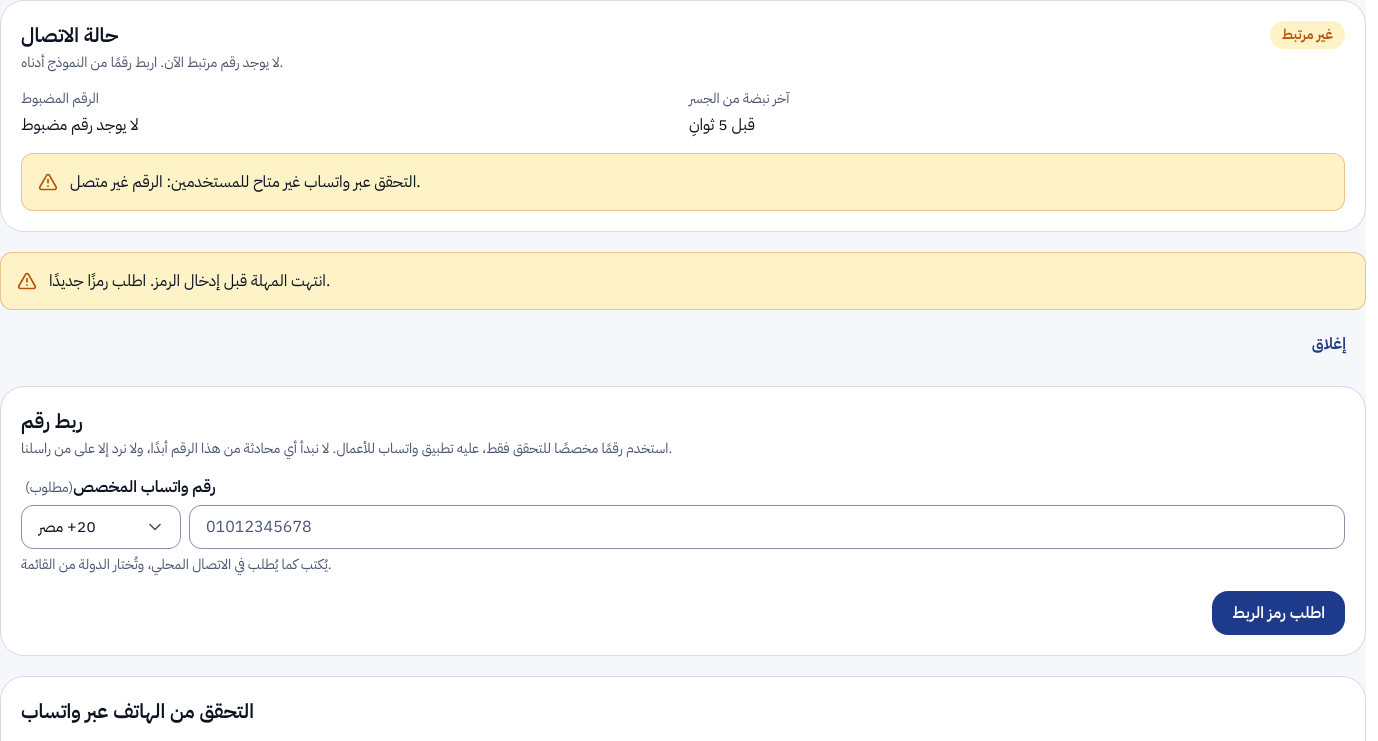
the pairing code › explains a failed pairing in Arabic and lets the admin close it
Expected: the text "انتهت المهلة قبل إدخال الرمز. اطلب رمزًا جديدًا." is shown, [49,269,330,293]
Click the button "إغلاق".
click(1329, 344)  # box [1292,322,1366,366]
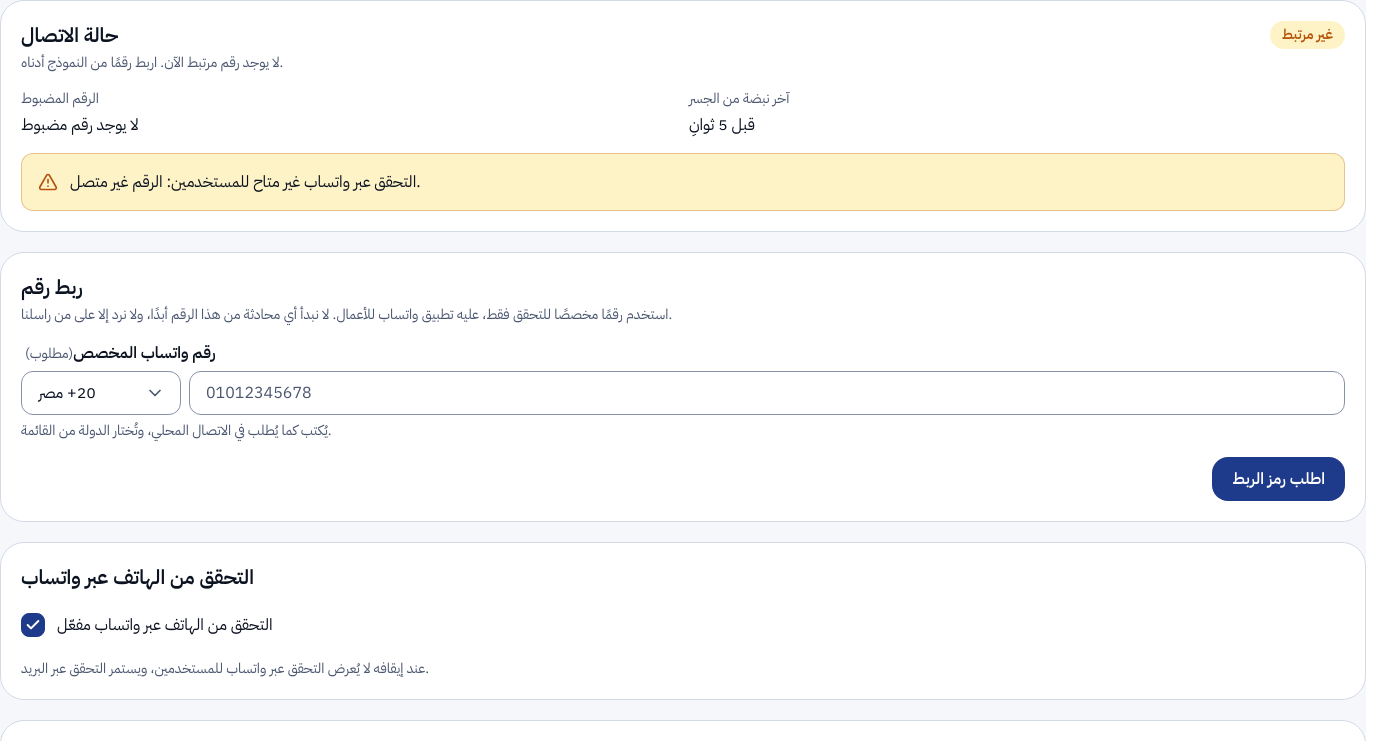
Now the text "انتهت المهلة قبل إدخال الرمز. اطلب رمزًا جديدًا." is gone
